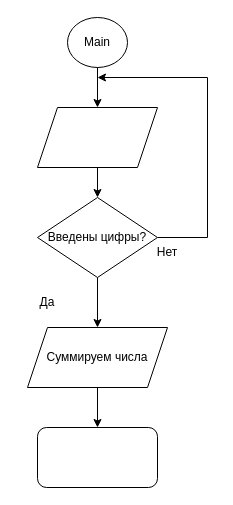
Image size: 233x505. Some labels were removed from this diagram. Here are the shapes that lost their labels. From the top down, the centre of each, then its label:
the point at 97,137: Ввод чисел
the point at 97,457: Вывод результата
